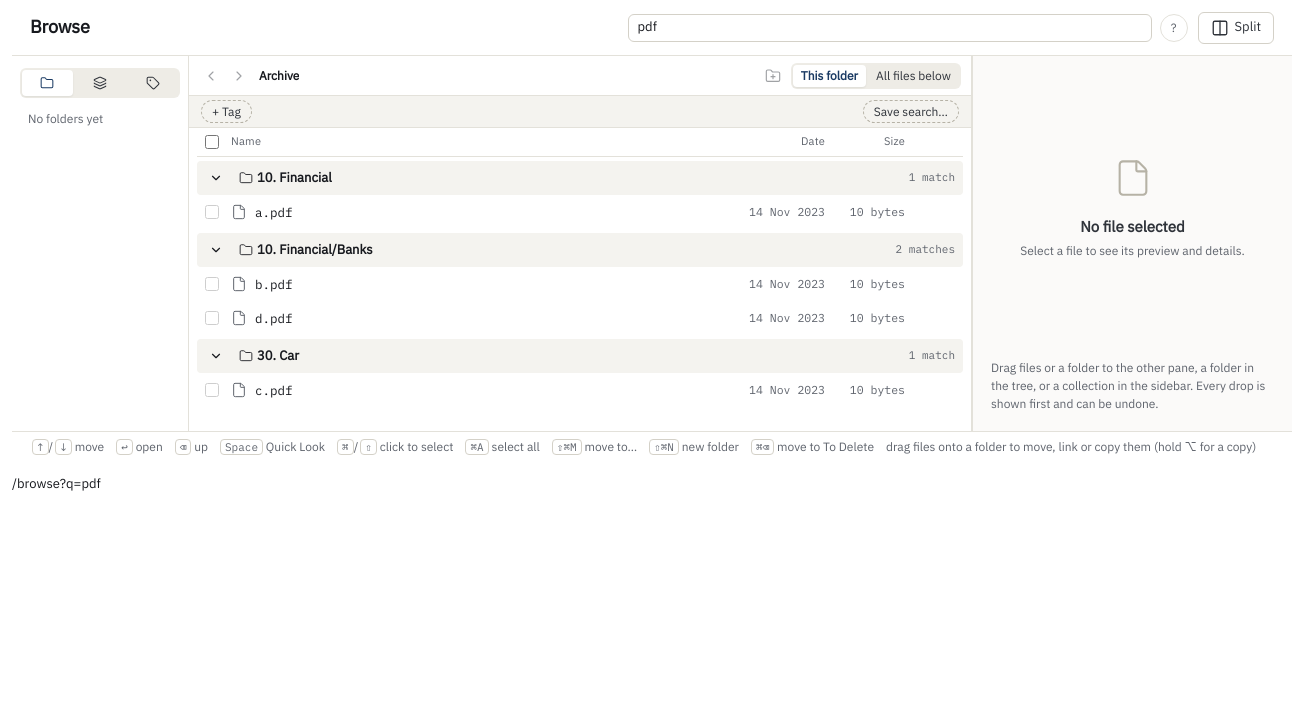
The tags row › tag:name typed in the box lands in the row and leaves the box
Expected: the list named "Search results" is shown, [189,161,971,407]
Type " tag:medical " into the dropdown named "Search" at (890, 28), box [628,14,1152,42]
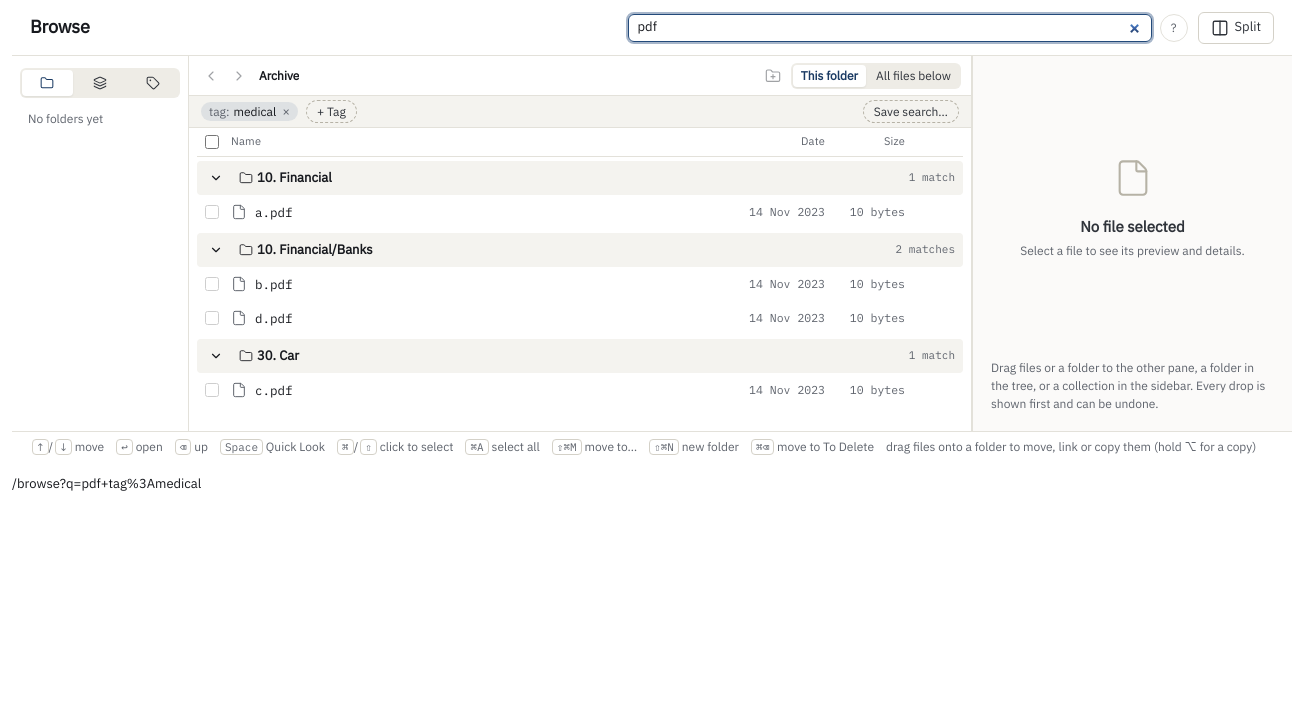
Expected: the element named "Search filters" is shown, [189,96,971,128]
Expected: the text with test id "where" reads "/browse?q=pdf+tag%3Amedical", [12,475,201,492]
Expected: the dropdown named "Search" holds "pdf", [628,14,1152,42]
